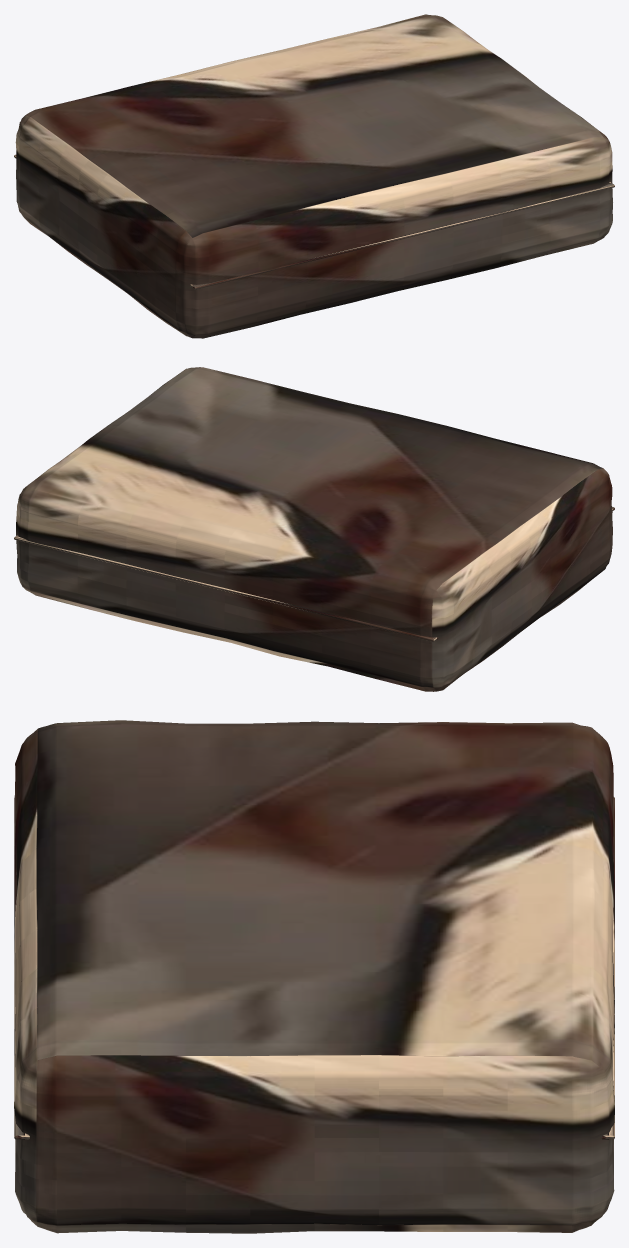
The model's file is fridge_contents__frozen_food_pouch.glb.
3 renders of one model, top to bottom at view 1: azimuth 30°, elevation 25°; view 2: azimuth 150°, elevation 25°; view 3: azimuth 270°, elevation 25°, orthographic. The views are drawn at different scales.
Parts seen in each view (by area): view 1: filled flexible wrapper, heat sealed edge; view 2: filled flexible wrapper, heat sealed edge.001; view 3: filled flexible wrapper.
Boxes of the visible parts, bbox=[...] form: filled flexible wrapper: bbox=[15, 14, 612, 338]; heat sealed edge: bbox=[190, 182, 614, 289]; filled flexible wrapper: bbox=[16, 367, 612, 691]; heat sealed edge.001: bbox=[14, 535, 438, 641]; filled flexible wrapper: bbox=[14, 720, 614, 1233].
Size of the model in its own units: 0.251 by 0.063 by 0.1811.
1 material, 1 textured.
